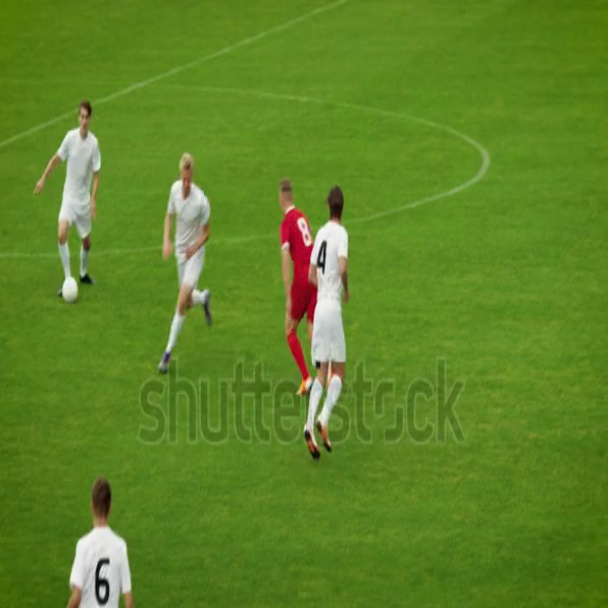ball: (62, 274, 80, 304)
